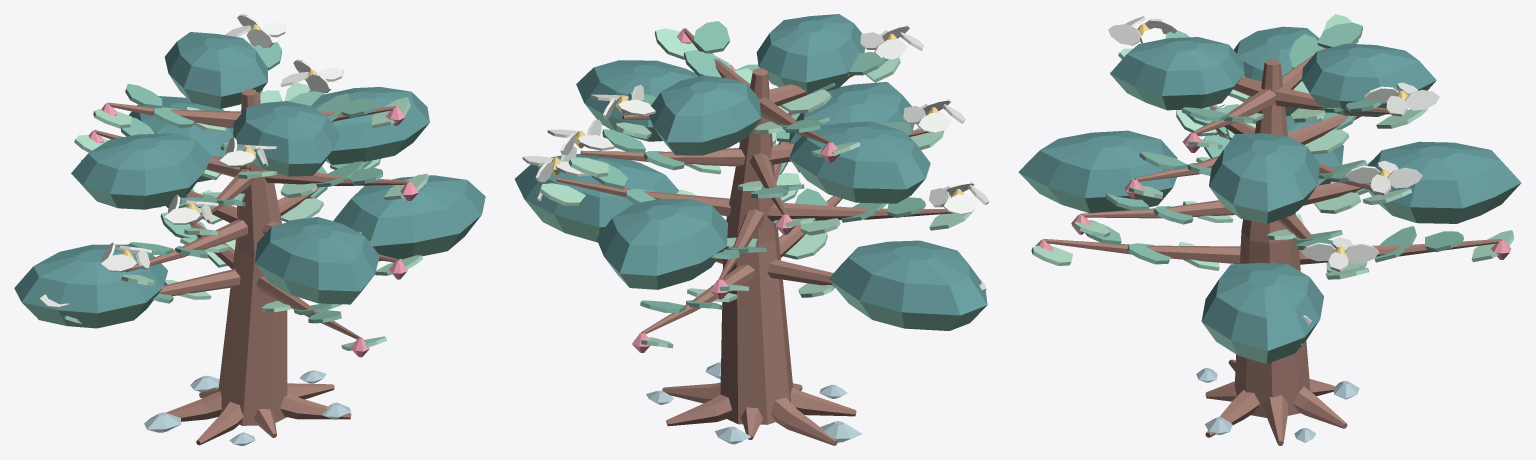
The model's file is lagoon_tree_pacific_dogwood.glb.
The picture shows the model from 3 angles, left to right: view 1: azimuth 30°, elevation 25°; view 2: azimuth 150°, elevation 25°; view 3: azimuth 270°, elevation 25°; orthographic projection. The views are drawn at different scales.
Parts seen in each view (by area): view 1: lagoon_tree_pacific_dogwood.001; view 2: lagoon_tree_pacific_dogwood.001; view 3: lagoon_tree_pacific_dogwood.001.
Part boxes in pixels (box(x1,y1,x2,y2)): lagoon_tree_pacific_dogwood.001: box(14, 14, 485, 445); lagoon_tree_pacific_dogwood.001: box(514, 14, 989, 445); lagoon_tree_pacific_dogwood.001: box(1018, 14, 1521, 445).
Size of the model in its own units: 6.89 by 4.89 by 6.26.
